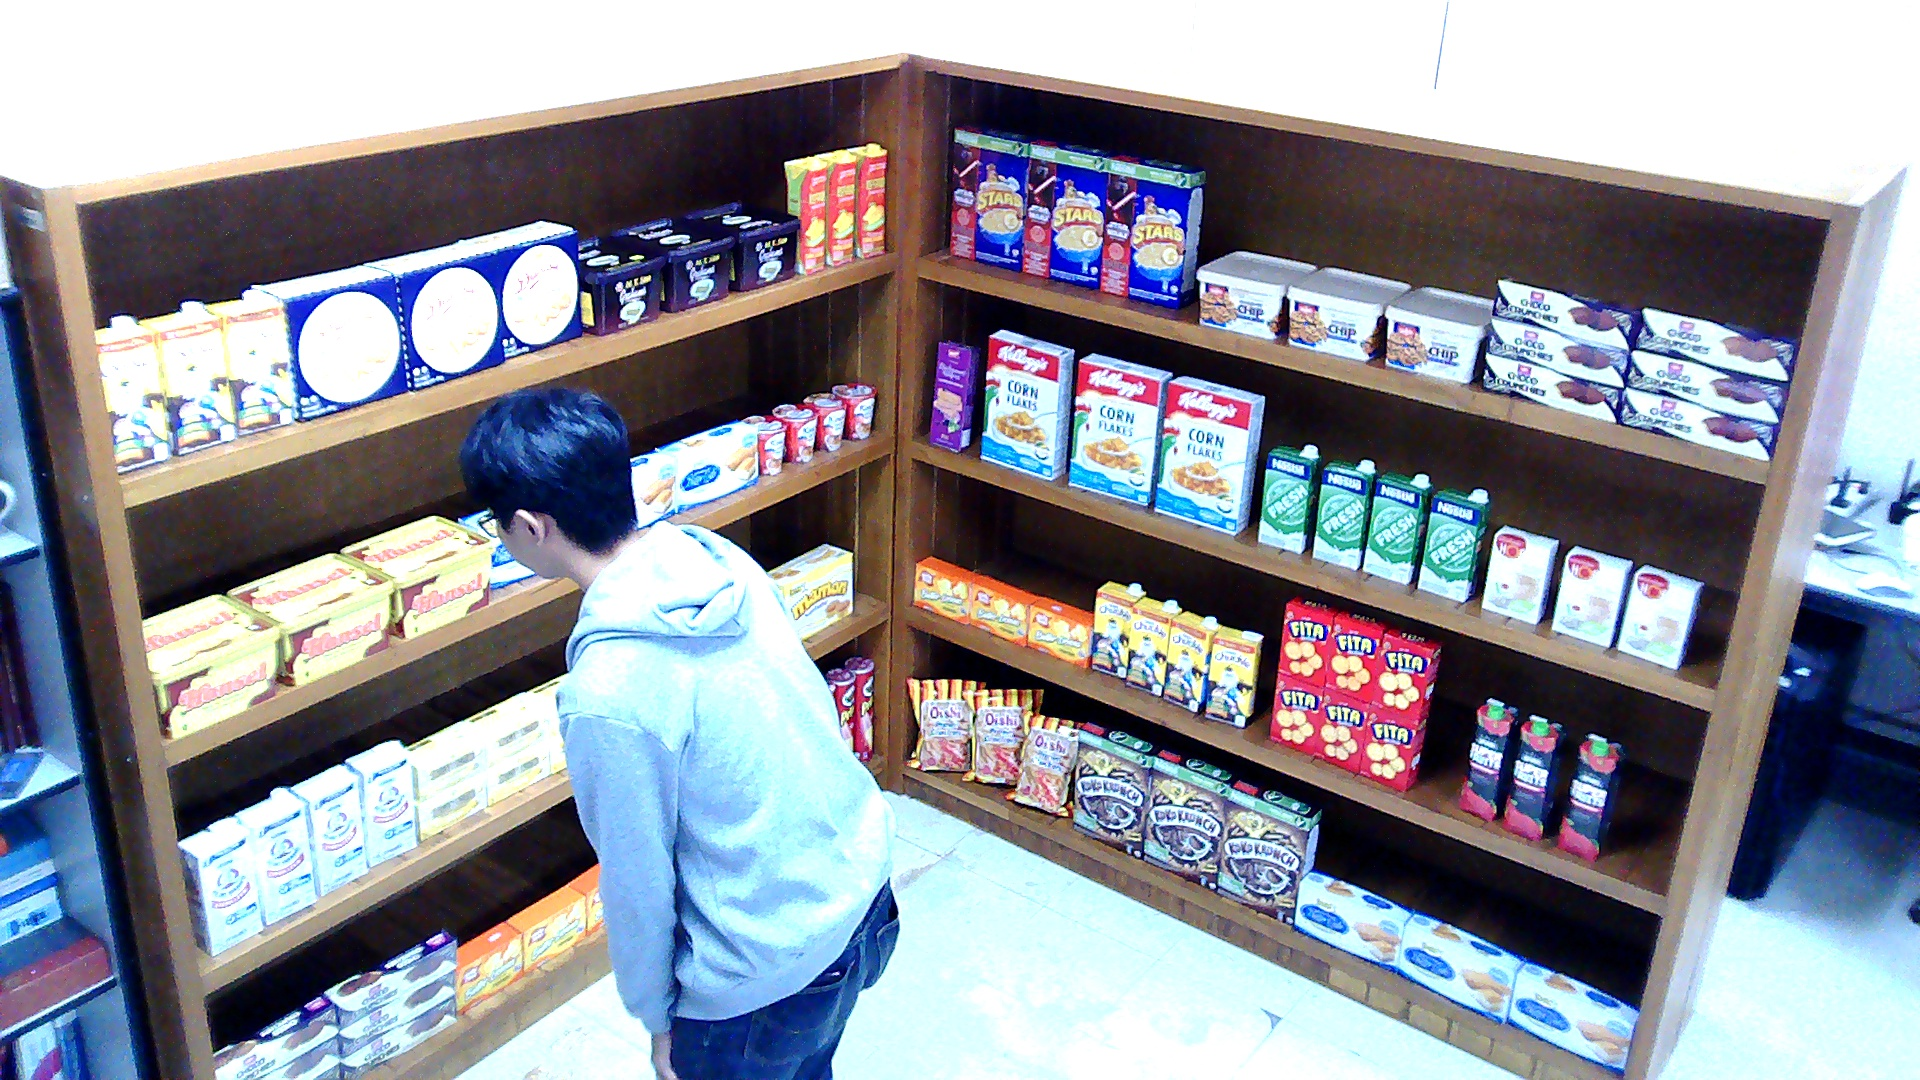Bear brand: (177, 816, 261, 956), (234, 785, 315, 925), (288, 762, 366, 897), (345, 740, 417, 866)
Buttercake: (1506, 958, 1638, 1075), (1395, 908, 1527, 1023), (1293, 868, 1416, 971), (654, 419, 756, 513), (630, 449, 675, 528)
Butterlicious: (504, 884, 585, 974), (456, 920, 522, 1012), (968, 576, 1037, 646), (1026, 596, 1092, 668), (912, 555, 981, 623), (567, 864, 606, 936)
Camomille: (455, 693, 542, 767), (405, 722, 483, 801), (414, 774, 486, 842), (483, 736, 549, 806), (518, 672, 563, 737)
Choco Crunchies: (321, 929, 456, 1030), (1632, 306, 1800, 382), (1626, 349, 1788, 425), (1617, 387, 1779, 461), (1491, 277, 1641, 351), (210, 994, 336, 1077), (1485, 315, 1629, 387), (1482, 351, 1620, 423), (339, 972, 453, 1058), (338, 994, 455, 1077), (258, 1034, 339, 1077), (315, 1062, 339, 1078)
Chocolate Chips: (1284, 266, 1410, 360), (1193, 250, 1316, 340), (1383, 283, 1491, 382)
Chuckie: (138, 301, 234, 454), (200, 288, 293, 436), (93, 315, 171, 472), (1161, 610, 1221, 713), (1203, 625, 1263, 728), (1124, 596, 1181, 697), (1092, 580, 1146, 679)
Danisa: (252, 263, 405, 423), (363, 238, 501, 389), (464, 218, 581, 358)
Fita: (1323, 610, 1398, 702), (1371, 628, 1443, 720), (1358, 704, 1427, 792), (1277, 594, 1340, 688), (1314, 686, 1368, 774), (1269, 672, 1323, 753)
Fresh Milk: (1415, 485, 1490, 600), (1362, 470, 1434, 585), (1310, 457, 1379, 567), (1257, 443, 1320, 551)
Grahams: (609, 215, 735, 312), (681, 200, 801, 290), (576, 236, 666, 335)
Hansel: (225, 551, 393, 686), (138, 594, 276, 738), (338, 515, 491, 639)
Head: (450, 377, 642, 584)
Honey Stars: (1098, 153, 1206, 308), (1020, 134, 1128, 287), (948, 121, 1041, 272)
Kellogg Corn Flakes: (1151, 373, 1262, 533), (1068, 351, 1173, 506), (980, 328, 1073, 479)
Kimchi Noodles: (771, 402, 819, 461), (830, 380, 875, 441), (740, 413, 785, 474), (804, 391, 846, 450)
Koko Krunch: (1214, 779, 1319, 925), (1143, 747, 1242, 891), (1070, 718, 1163, 860)
Locally Mango: (782, 155, 827, 274), (812, 148, 857, 265), (843, 141, 885, 258)
Mamon: (765, 542, 852, 639)
Oishi Prawn: (1002, 709, 1086, 817), (900, 674, 984, 771), (960, 689, 1044, 783)
Pringles: (843, 655, 873, 761), (825, 666, 855, 752)
Super Fruits: (1554, 731, 1626, 861), (1503, 711, 1569, 841), (1457, 695, 1520, 821)
Wafer: (927, 337, 978, 450)
iHop: (1617, 562, 1704, 668), (1550, 544, 1631, 645), (1478, 524, 1559, 623)
